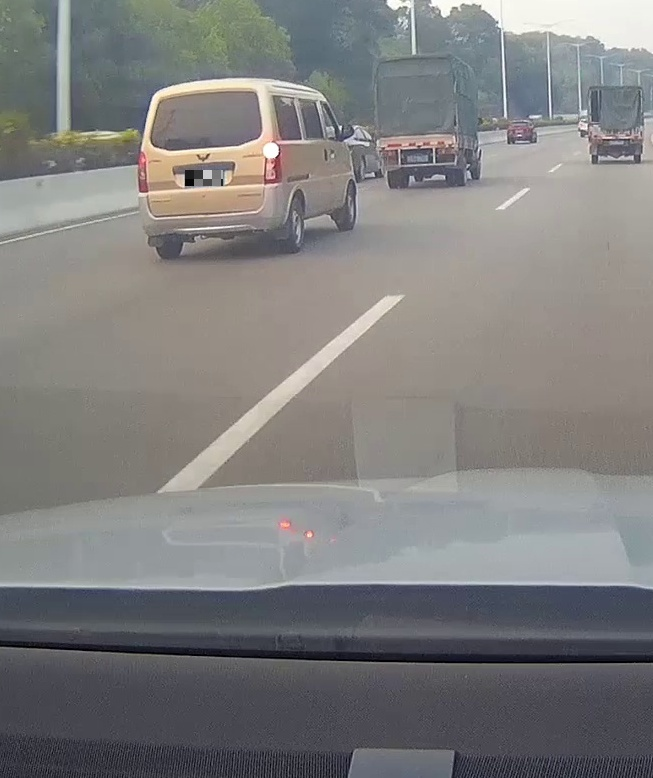L_light: (137, 150, 148, 192), (381, 151, 396, 157)
R_light: (262, 141, 281, 184), (439, 148, 454, 154)
T_light: (190, 94, 213, 97), (414, 141, 425, 146)
day-no: (371, 51, 462, 189)
day-right: (135, 78, 284, 261)
plate_1: (185, 170, 223, 186)
